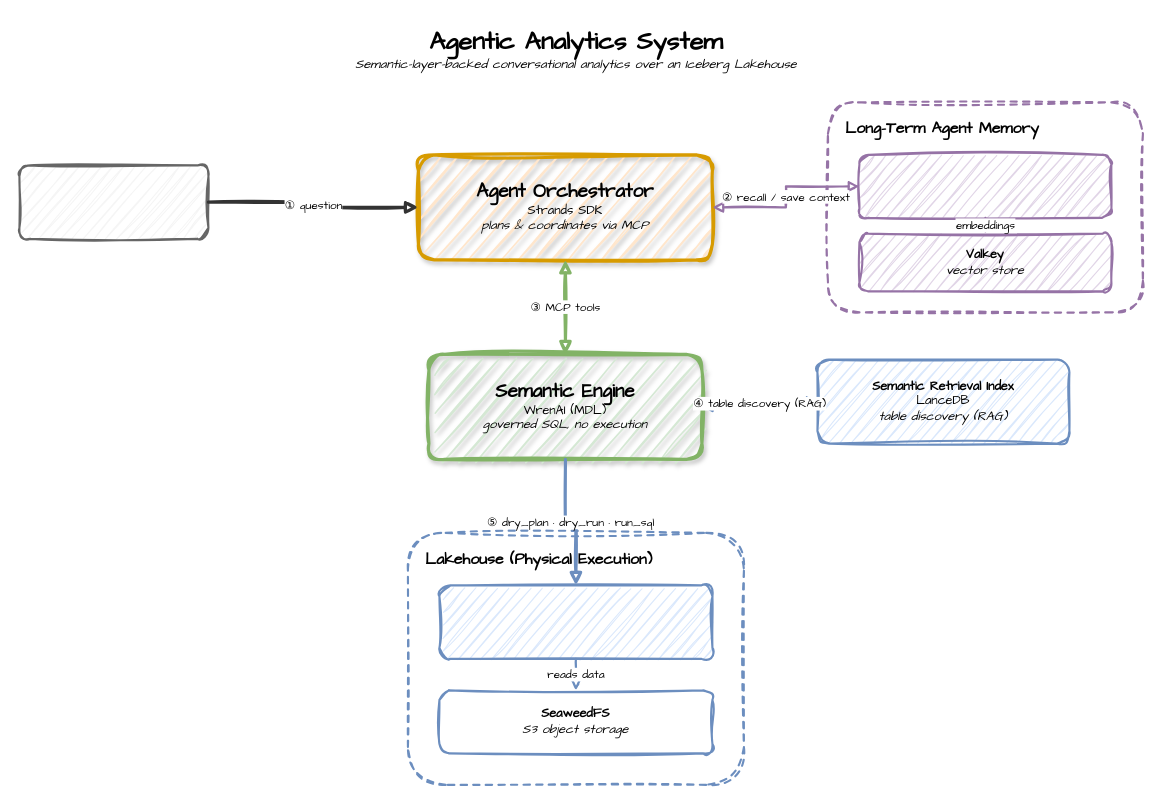
The diagram is 1161 pixels wide and 803 high, and some of its shapes have lost their labels. Each missing label, with the centre of its shape:
"Mem0 v3 hybrid retrieval" belongs at point 985,185.
"Trino / Apache Iceberg distributed SQL execution" belongs at point 575,621.
"User Request natural language" belongs at point 113,201.
